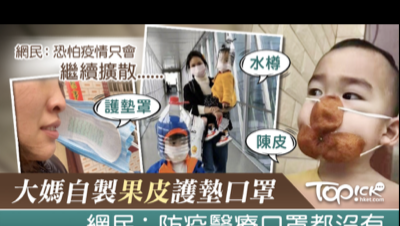with_mask: (297, 70, 384, 165), (160, 135, 190, 161), (189, 59, 206, 78), (216, 53, 233, 72)
without_mask: (12, 76, 66, 161)
